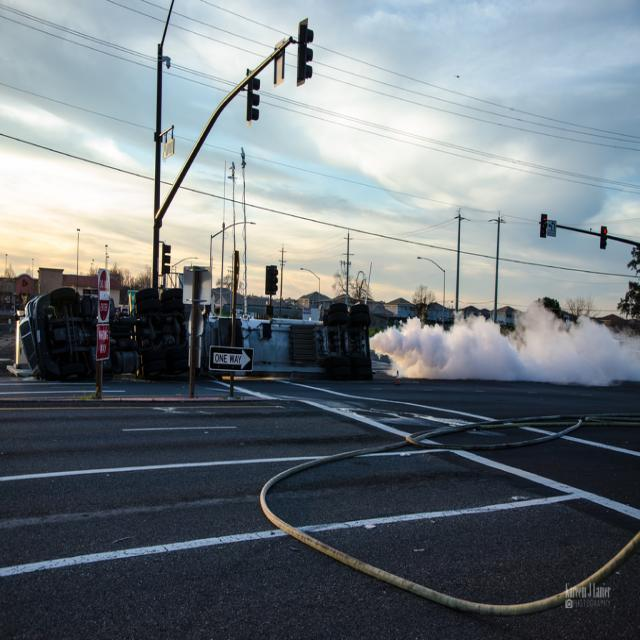off traffic light: (296, 17, 313, 86), (247, 72, 260, 126), (162, 244, 171, 276), (272, 265, 278, 293)
traffic light: (602, 225, 609, 249), (541, 214, 548, 237)
